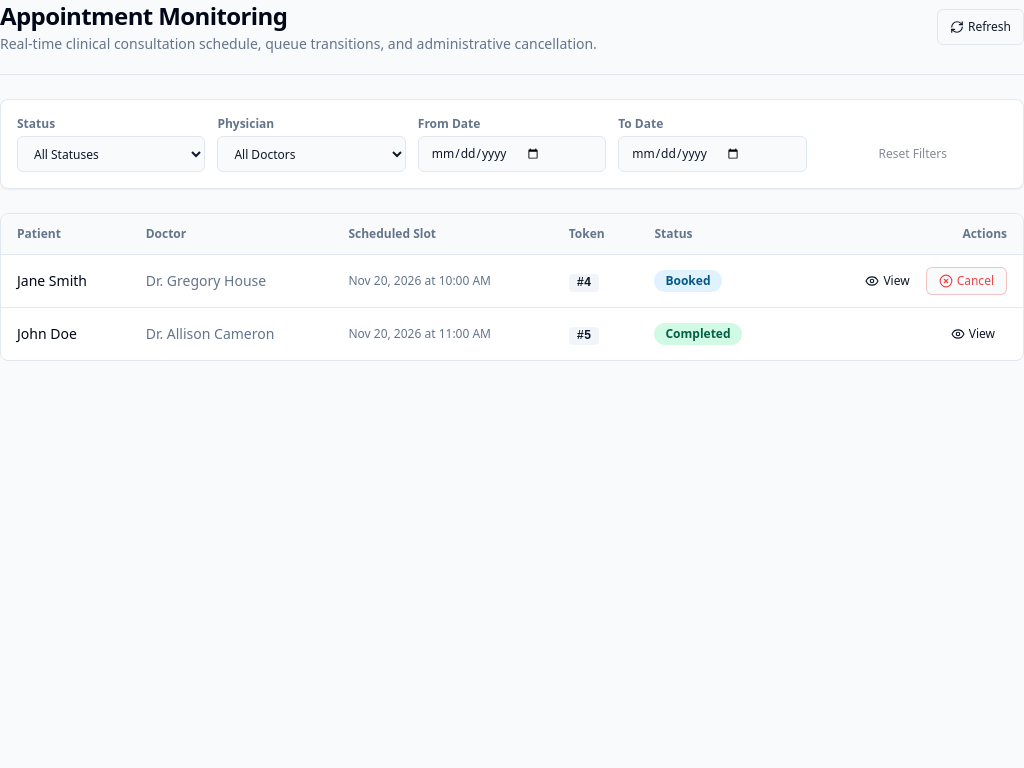
AppointmentsPage Monitoring › opens appointment details modal upon clicking View
The width and height of the screenshot is (1024, 768).
Click the button "View" in the row of "Jane Smith": click(888, 281) top-left (853, 267), bottom-right (922, 295)
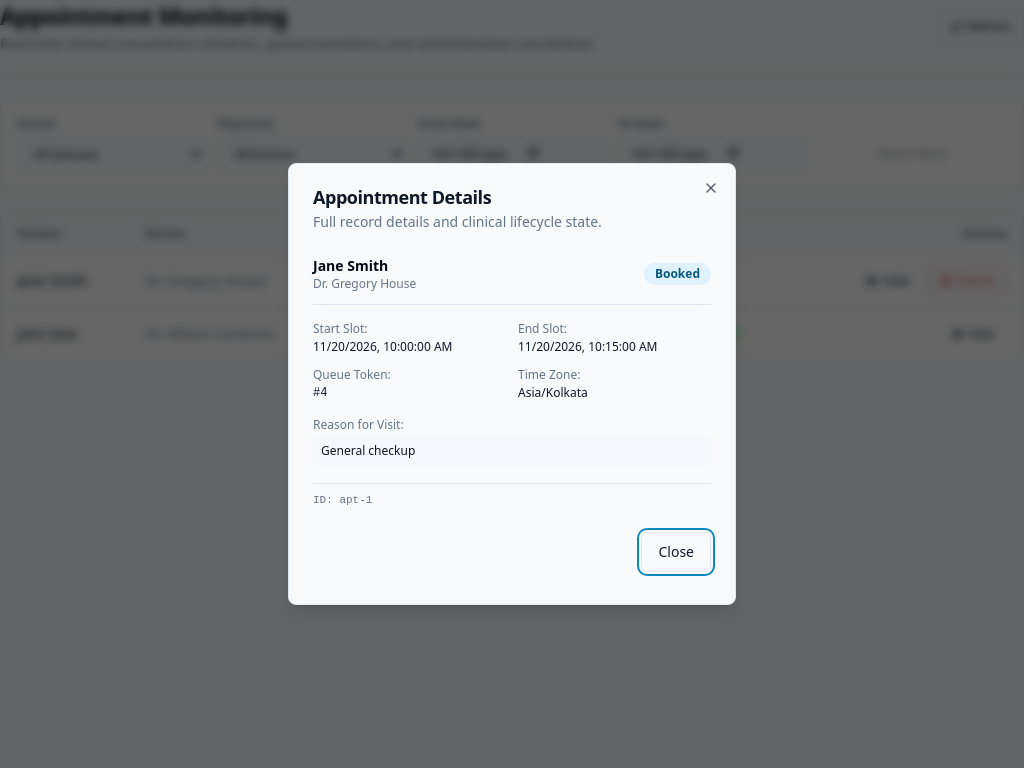
Expected: the heading "Appointment Details" is shown, top-left (313, 185), bottom-right (491, 209)
Expected: the text "General checkup" is shown, top-left (313, 435), bottom-right (711, 467)
